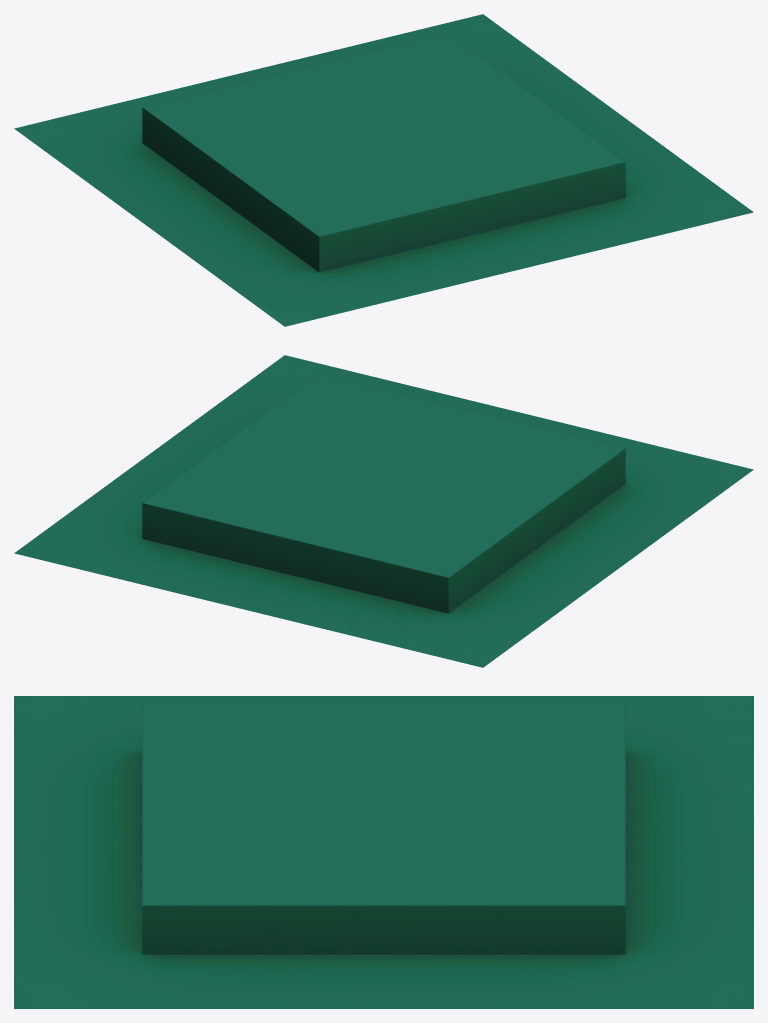
The model's file is tile08.fbx.
3 renders of one model, top to bottom at view 1: azimuth 30°, elevation 25°; view 2: azimuth 150°, elevation 25°; view 3: azimuth 270°, elevation 25°, orthographic. The views are drawn at different scales.
Parts seen in each view (by area): view 1: tile08_geo; view 2: tile08_geo; view 3: tile08_geo.
Part boxes in pixels (bbox=[...]): tile08_geo: bbox=[14, 14, 753, 326]; tile08_geo: bbox=[14, 355, 753, 667]; tile08_geo: bbox=[14, 696, 753, 1008].
Size of the model in its own units: 100 by 7.3 by 100.
Materials: 1 (1 with a texture image).
